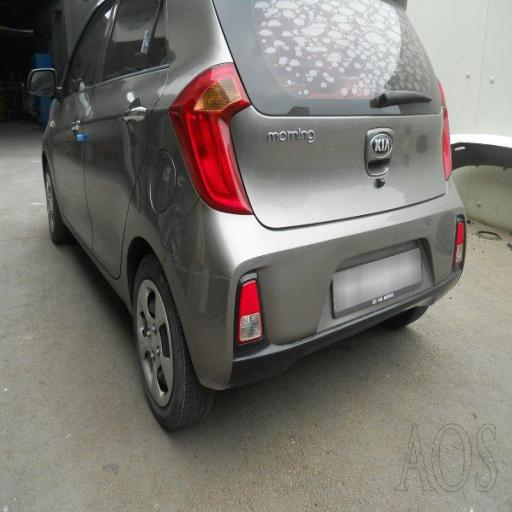scratch: (143, 114, 243, 336)
